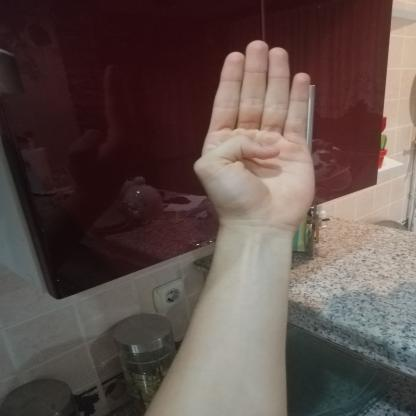KAAF: (175, 28, 334, 237)
